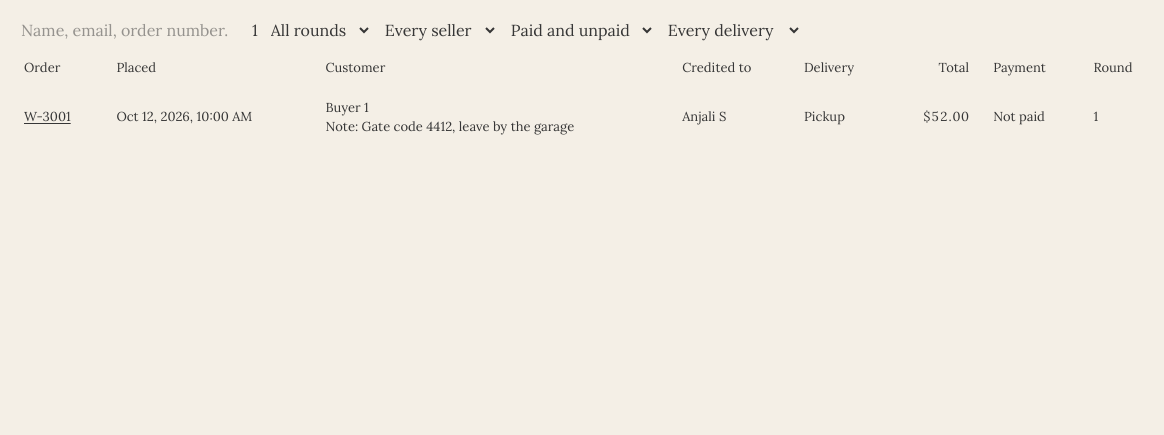
Scenario: admin orders: the order note › AdminDetail_NoteSave_IsGreyedUntilChanged
Click the button "W-3001": {"x": 47, "y": 117} [24,107,71,127]
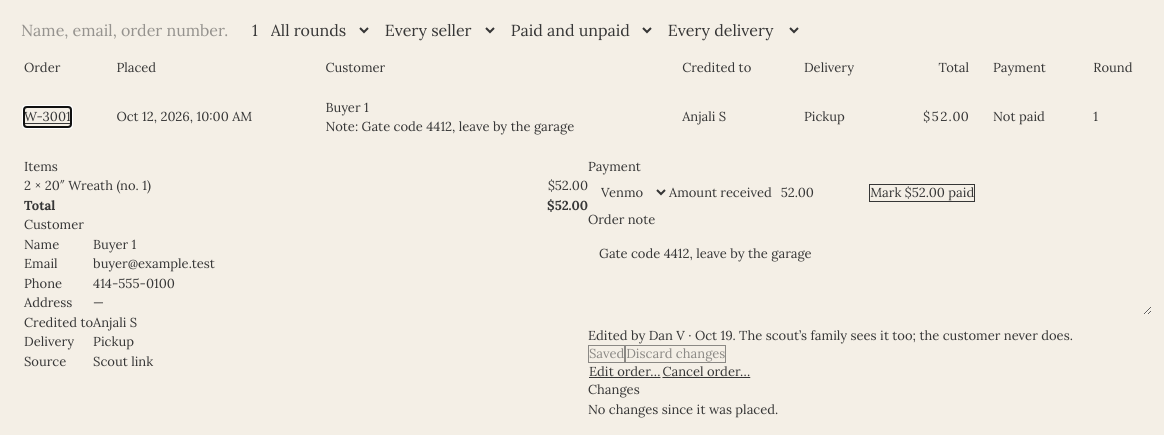
Check: the button "Saved" is disabled, box [588,345,625,363]
